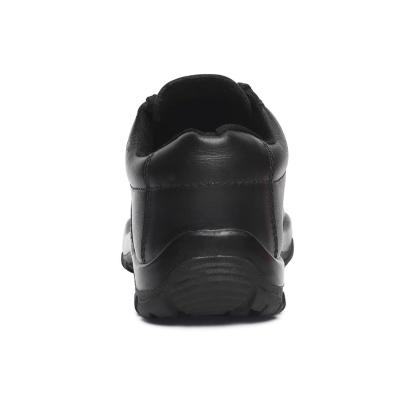bota: (118, 70, 296, 330)
